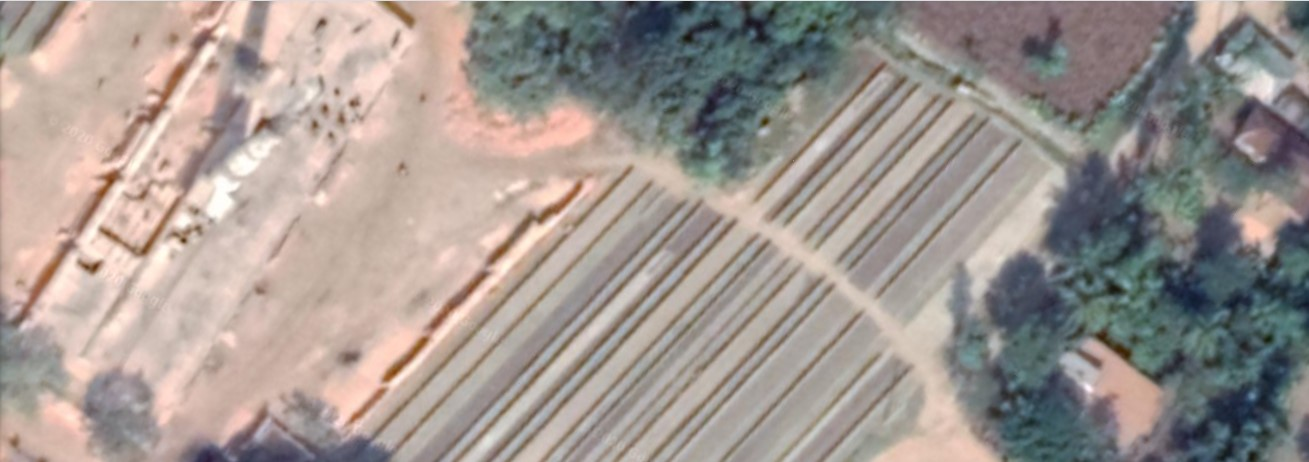kiln: (72, 17, 430, 303)
